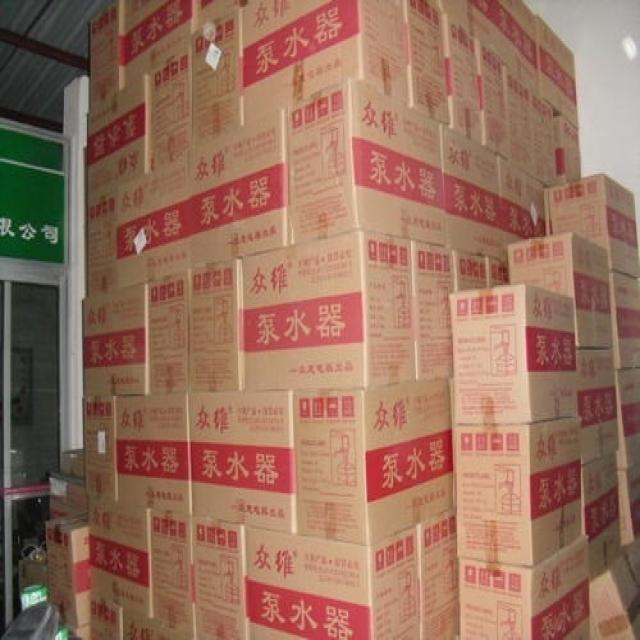box: (241, 230, 415, 389), (284, 79, 445, 247), (293, 379, 452, 546), (241, 0, 408, 125), (246, 524, 420, 640), (456, 415, 581, 568), (451, 285, 577, 425), (188, 104, 288, 268), (191, 389, 297, 532), (458, 536, 590, 640), (508, 232, 613, 348), (116, 150, 189, 288), (549, 174, 640, 278), (116, 393, 193, 515), (88, 497, 154, 621), (442, 123, 502, 259), (87, 75, 151, 200), (82, 282, 148, 396), (188, 259, 244, 393), (192, 9, 244, 148), (193, 517, 251, 640), (468, 0, 539, 94), (125, 0, 198, 89), (411, 241, 454, 379), (404, 0, 449, 125), (152, 510, 196, 637), (45, 509, 91, 626), (147, 268, 189, 394), (581, 451, 622, 580), (442, 15, 483, 143), (499, 154, 547, 261), (150, 49, 192, 171), (535, 14, 579, 130), (590, 539, 640, 640), (576, 348, 618, 464), (417, 509, 458, 623), (476, 38, 511, 159), (91, 0, 125, 111), (83, 396, 118, 502), (87, 188, 118, 297), (506, 65, 534, 177), (609, 271, 640, 370), (532, 89, 557, 188), (616, 367, 640, 469), (123, 609, 196, 640), (197, 0, 256, 32), (49, 471, 88, 519), (618, 464, 640, 546), (556, 114, 580, 184), (452, 249, 488, 292), (420, 602, 460, 640), (91, 597, 123, 640), (436, 0, 472, 32), (486, 256, 509, 287), (63, 449, 84, 480)
